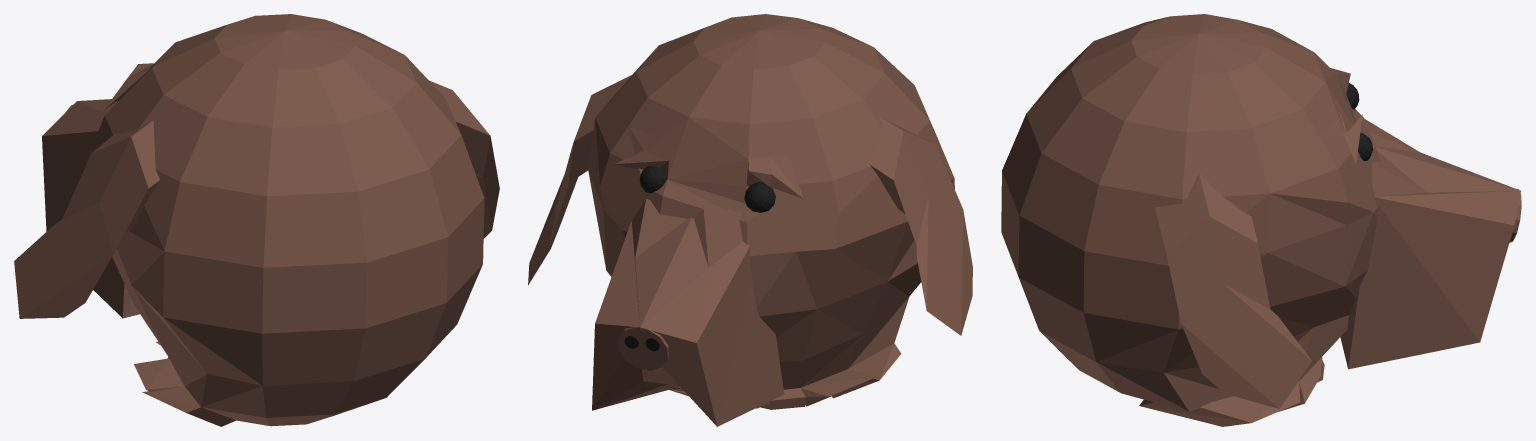
The picture shows the model from 3 angles, left to right: view 1: azimuth 30°, elevation 25°; view 2: azimuth 150°, elevation 25°; view 3: azimuth 270°, elevation 25°; orthographic projection. The views are drawn at different scales.
Visible parts, largest first — view 1: mesh_1761738761, group_1964254343, mesh_1896558986, group_657751833; view 2: mesh_1761738761, mesh_1896558986, group_1964254343, group_657751833, mesh_1389859284, mesh_866851378, mesh_496792687; view 3: mesh_1761738761, mesh_1896558986, group_657751833.
Part boxes in pixels (x1,y1,x2,y2): mesh_1761738761: (82,14,484,426); group_1964254343: (14,120,159,318); mesh_1896558986: (42,99,139,318); group_657751833: (429,80,499,238); mesh_1761738761: (588,14,954,409); mesh_1896558986: (592,198,784,426); group_1964254343: (868,117,972,335); group_657751833: (528,74,632,285); mesh_1389859284: (618,327,668,370); mesh_866851378: (744,182,775,212); mesh_496792687: (639,165,666,193); mesh_1761738761: (1001,14,1380,426); mesh_1896558986: (1340,116,1520,369); group_657751833: (1155,173,1311,408).
Bounding box in the file's own units: 45.15 × 36.15 × 47.14.
